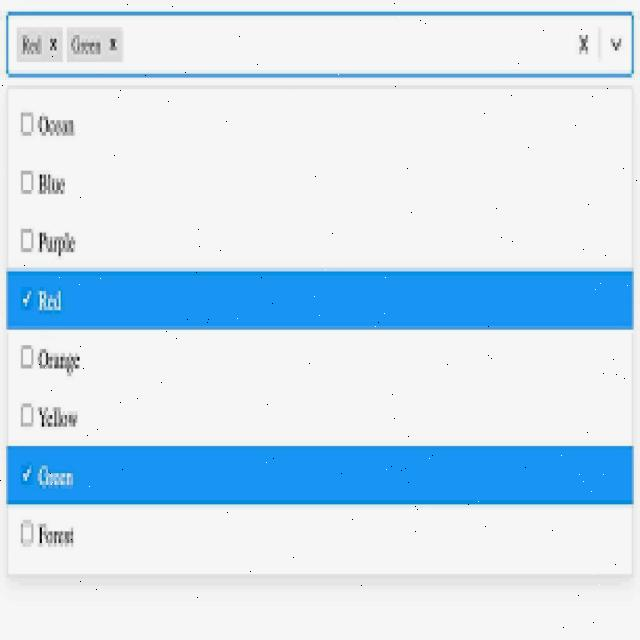checkbox: (17, 283, 35, 312), (17, 461, 37, 487), (20, 404, 36, 428), (19, 346, 35, 368), (21, 171, 35, 194), (22, 520, 34, 546), (21, 113, 34, 136), (22, 229, 34, 252)
dropdownMenu: (10, 14, 632, 588)
menuItem: (16, 511, 89, 555), (14, 276, 83, 321), (13, 453, 86, 493), (16, 105, 90, 143), (17, 219, 82, 261), (16, 399, 82, 435), (17, 338, 83, 373), (17, 164, 78, 199)
tabControl: (66, 22, 126, 62), (14, 22, 63, 63)
